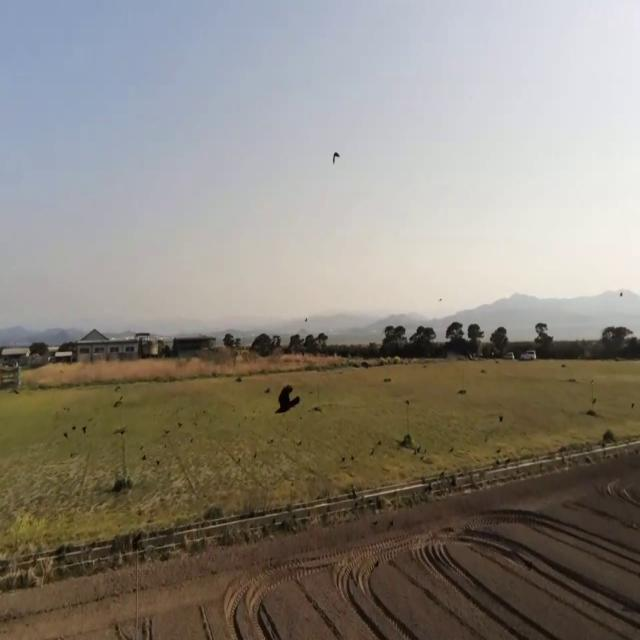bird: (332, 146, 340, 168)
